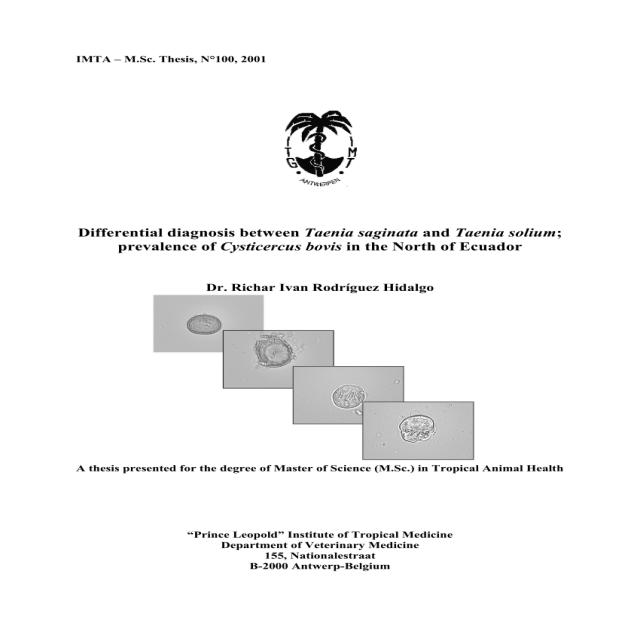Taenia Sp: (253, 332, 297, 371), (392, 410, 440, 445), (327, 381, 369, 412), (179, 314, 226, 338)
